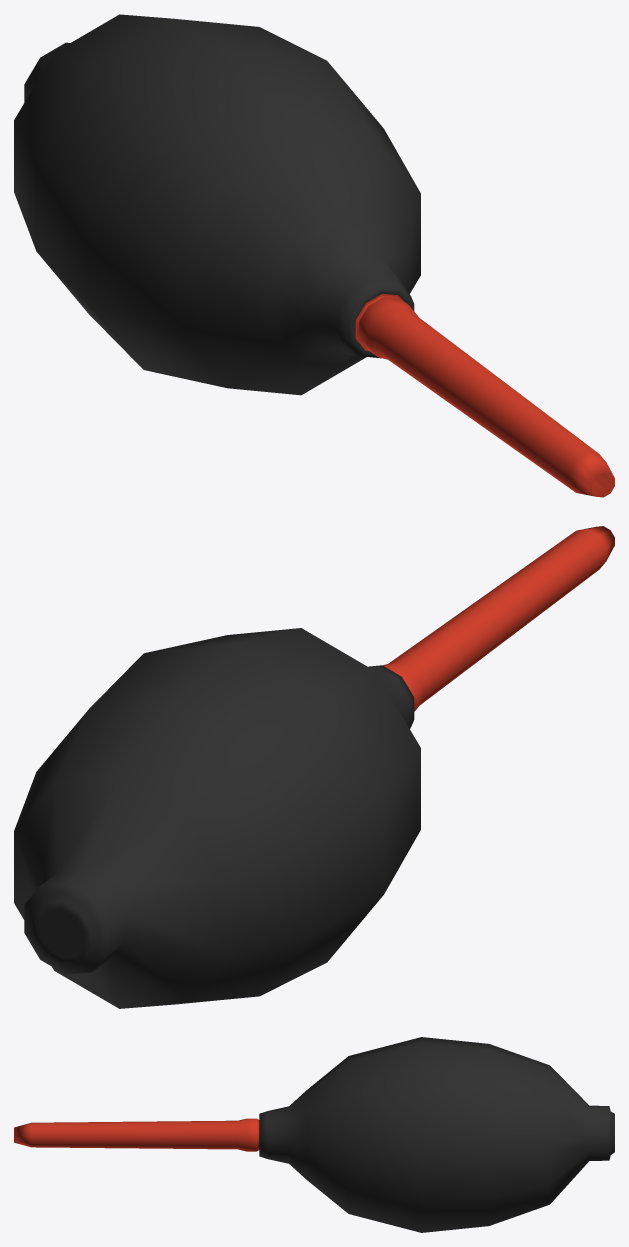
Rendered from AirBall.fbx.
3 views of the same model, one above another, from view 1: azimuth 30°, elevation 25°; view 2: azimuth 150°, elevation 25°; view 3: azimuth 270°, elevation 25° (orthographic). The views are drawn at different scales.
Parts seen in each view (by area): view 1: AirBall; view 2: AirBall; view 3: AirBall.
Part boxes in pixels (<box>): AirBall: <box>14,14,614,497</box>; AirBall: <box>14,526,614,1008</box>; AirBall: <box>14,1037,614,1232</box>.
Bounding box in the file's own units: 0.04 × 0.042 × 0.1266.
